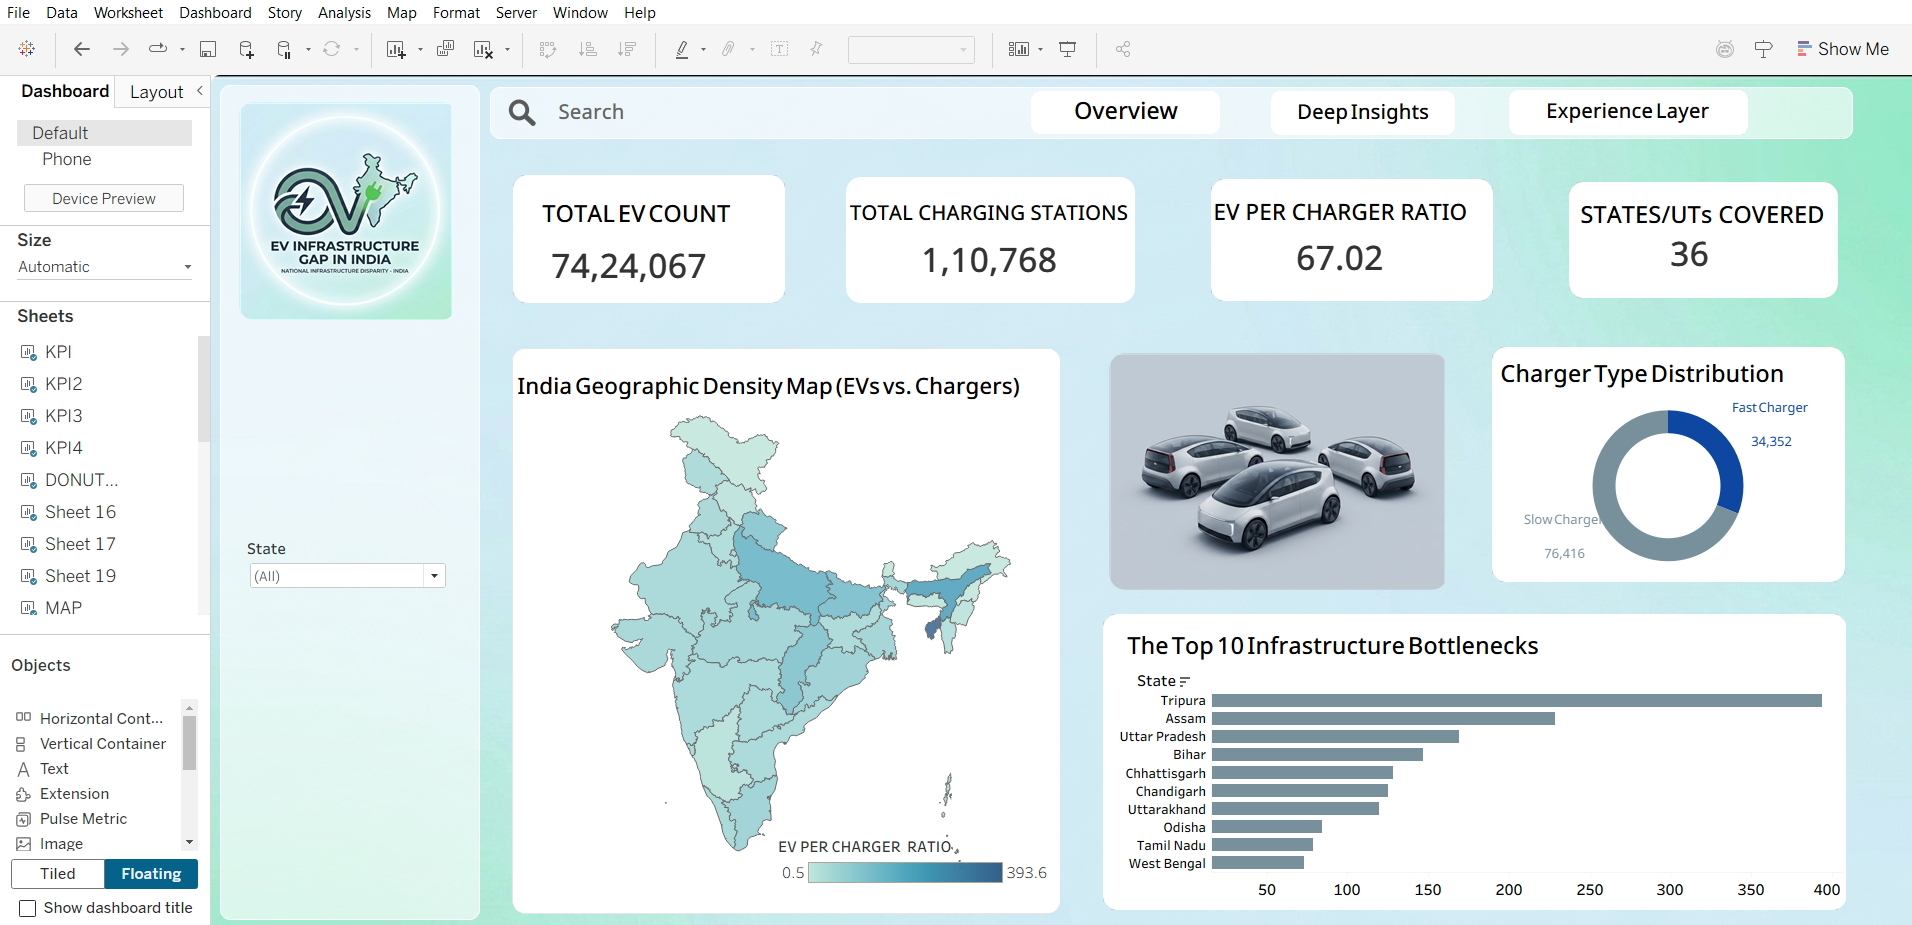

Layout of this report page (visuals, bound fields, positions):
{"tool":"tableau","page":{"name":"Dashboard 5","canvas":[1000,1000],"units":"permille","ordinal":0},"visuals":[{"type":"worksheet","title":"Sheet 17","mark":"Automatic","box":[6.1,12.9,151.3,978.8]},{"type":"worksheet","title":"Sheet 16","mark":"Automatic","box":[164.1,15.3,797.5,58.7]},{"type":"text","box":[201.6,17.6,121.2,54.1]},{"type":"dashboard-object","box":[760.5,17.6,140,52.7]},{"type":"dashboard-object","box":[480.2,18.8,111,50.5]},{"type":"dashboard-object","box":[621.2,18.8,107.8,51.7]},{"type":"image","param":"C:/Users/theza/Downloads/Screenshot_2026-06-06_222436-removebg-preview (1).png","box":[174.2,27,18.3,32.9]},{"type":"image","param":"C:/Users/theza/Downloads/LOGOEVDASH.png","box":[16.6,31.7,127,256.2]},{"type":"text","box":[191.9,117.5,136.3,94]},{"type":"worksheet","title":"Sheet 19","mark":"Automatic","box":[371.8,119.9,169.6,148.1]},{"type":"text","box":[800.2,122.2,159,88.1]},{"type":"text","box":[369.4,131.6,172,64.6]},{"type":"text","box":[585.1,135.1,186.3,55.2]},{"type":"worksheet","title":"KPI4","mark":"Automatic","box":[612.9,179.8,76.8,77.6]},{"type":"worksheet","title":"KPI3","mark":"Automatic","box":[852.2,185.7,53.2,56.4]},{"type":"worksheet","title":"KPI","mark":"Automatic","box":[196.7,186.8,128,82.3]},{"type":"worksheet","title":"KPI2","mark":"Automatic","box":[413.4,189.2,103.2,64.6]},{"type":"text","box":[177.6,317.3,351.6,99.9]},{"type":"worksheet","title":"MAP","mark":"Multipolygon","box":[176.1,320.8,321.5,665.1]},{"type":"text","box":[753.6,322,192.1,62.3]},{"type":"image","param":"C:/Users/theza/Downloads/evcenter.png","box":[525.8,326.7,198.8,278.5]},{"type":"worksheet","title":"DONUTCHART","mark":"Pie","rows":["Calculation_1282681471912214532","Calculation_1282681471912214532"],"box":[751.6,369,203.9,217.4]},{"type":"text","box":[534.9,645.1,362.9,54.1]},{"type":"worksheet","title":"bottleneck top 10","mark":"Automatic","rows":["State"],"cols":["Calculation_1282681471875309569"],"box":[527.2,700.4,429.1,275]},{"type":"legend","title":"MAP","param":"[federated.13gvhhg19wd4i118qc4a7122l8m8].[usr:Calculation_1282681471875309569:qk","box":[332.4,894.2,160.4,85.8]}]}

Visuals, with their boxes on the dashboard's canvas, which has no fixed pixel size, in thousandths of its width and height (x1, y1, x2, y2). These are canvas units, not pixel positions in the 1912x925 screenshot, which may show the page scaled, cropped or inside an application window:
"Sheet 17" worksheet: <region>6, 13, 157, 992</region>
"Sheet 16" worksheet: <region>164, 15, 962, 74</region>
text: <region>202, 18, 323, 72</region>
dashboard-object: <region>760, 18, 900, 70</region>
dashboard-object: <region>480, 19, 591, 69</region>
dashboard-object: <region>621, 19, 729, 70</region>
image: <region>174, 27, 192, 60</region>
image: <region>17, 32, 144, 288</region>
text: <region>192, 118, 328, 212</region>
"Sheet 19" worksheet: <region>372, 120, 541, 268</region>
text: <region>800, 122, 959, 210</region>
text: <region>369, 132, 541, 196</region>
text: <region>585, 135, 771, 190</region>
"KPI4" worksheet: <region>613, 180, 690, 257</region>
"KPI3" worksheet: <region>852, 186, 905, 242</region>
"KPI" worksheet: <region>197, 187, 325, 269</region>
"KPI2" worksheet: <region>413, 189, 517, 254</region>
text: <region>178, 317, 529, 417</region>
"MAP" worksheet (Multipolygon marks): <region>176, 321, 498, 986</region>
text: <region>754, 322, 946, 384</region>
image: <region>526, 327, 725, 605</region>
"DONUTCHART" worksheet (Pie marks): <region>752, 369, 956, 586</region>
text: <region>535, 645, 898, 699</region>
"bottleneck top 10" worksheet: <region>527, 700, 956, 975</region>
"MAP" legend: <region>332, 894, 493, 980</region>
